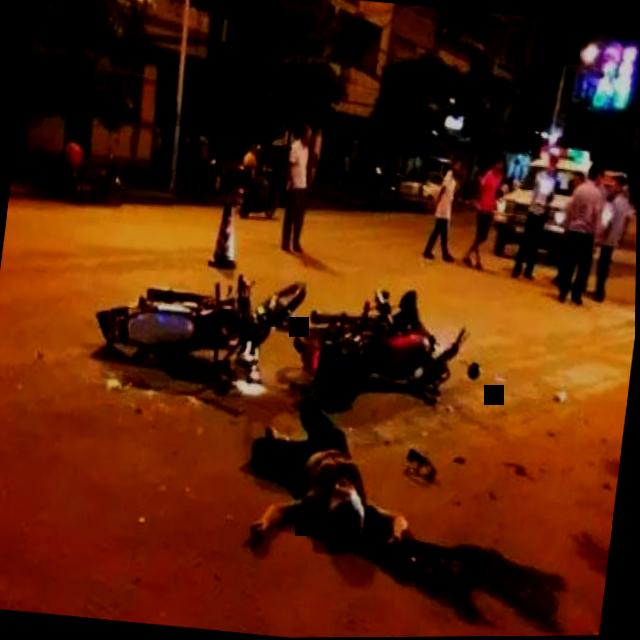Fall-Detected: (224, 347, 433, 577)
